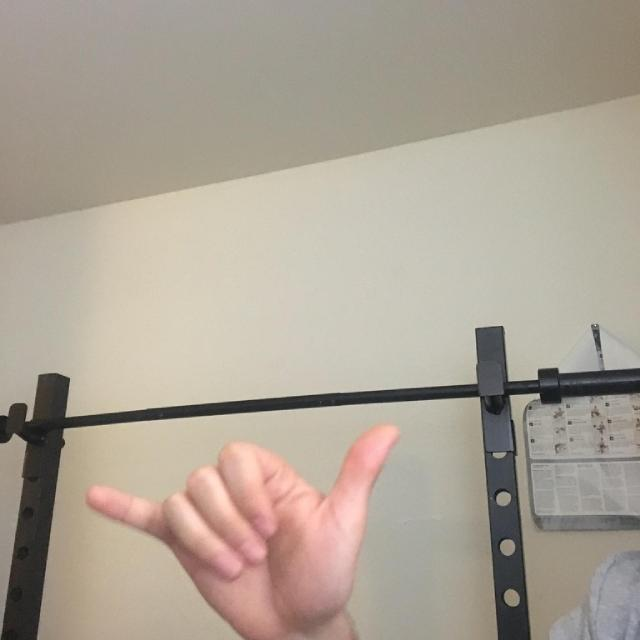Y: (59, 395, 482, 640)
